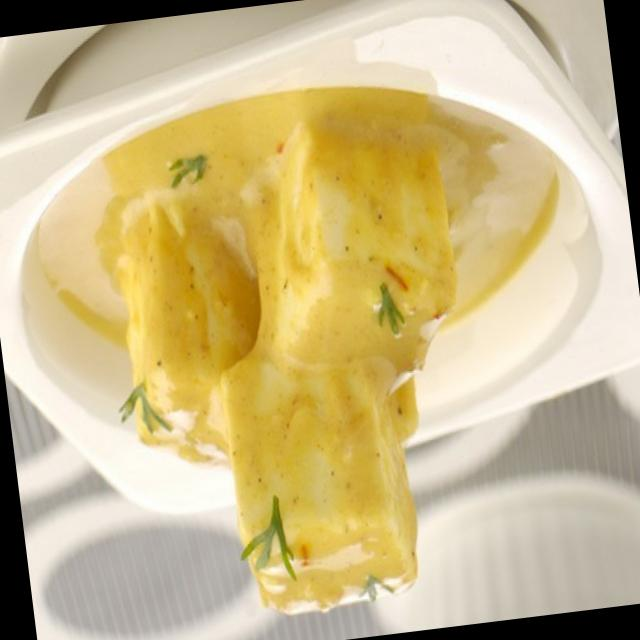ShahiPaneer: (21, 59, 615, 640)
